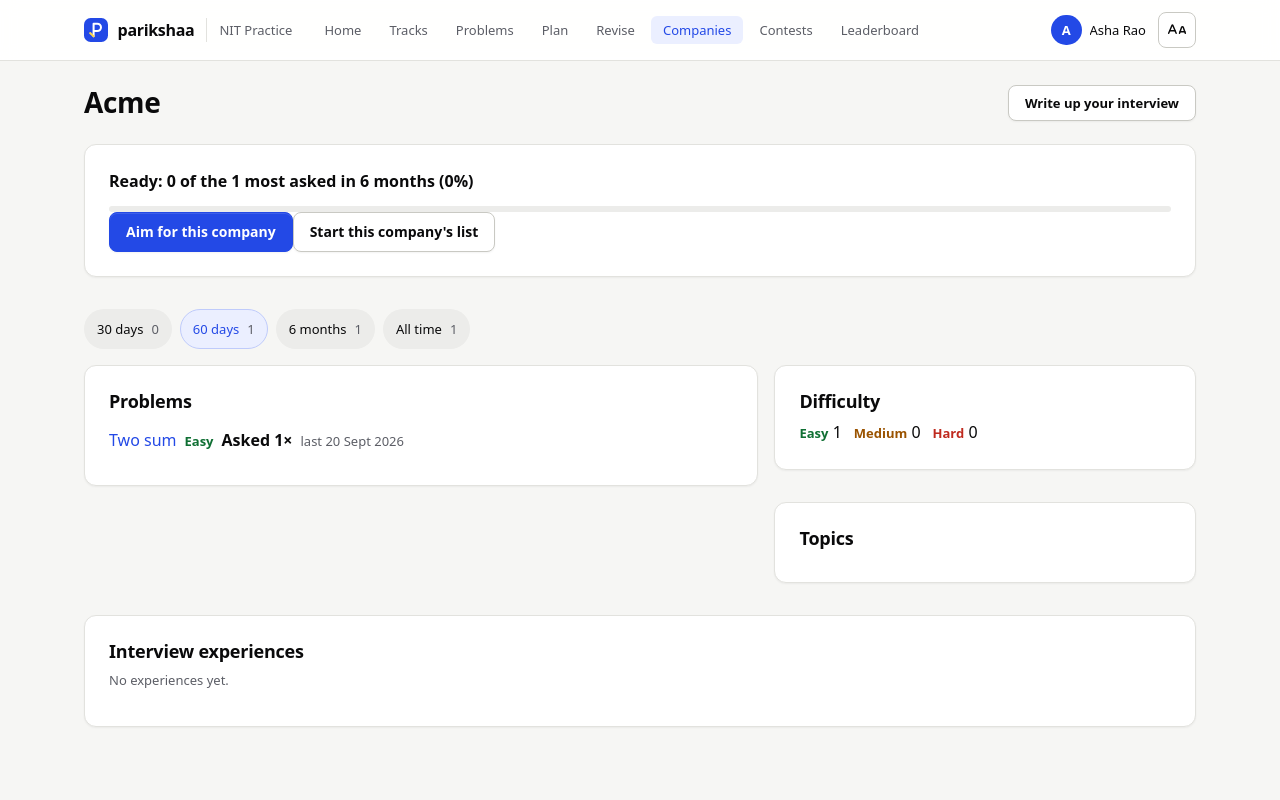
it: aiming for a company › aims for it, and starts its list
The width and height of the screenshot is (1280, 800).
Click the button "Aim for this company" at (201, 232), box [109,212,293,252]
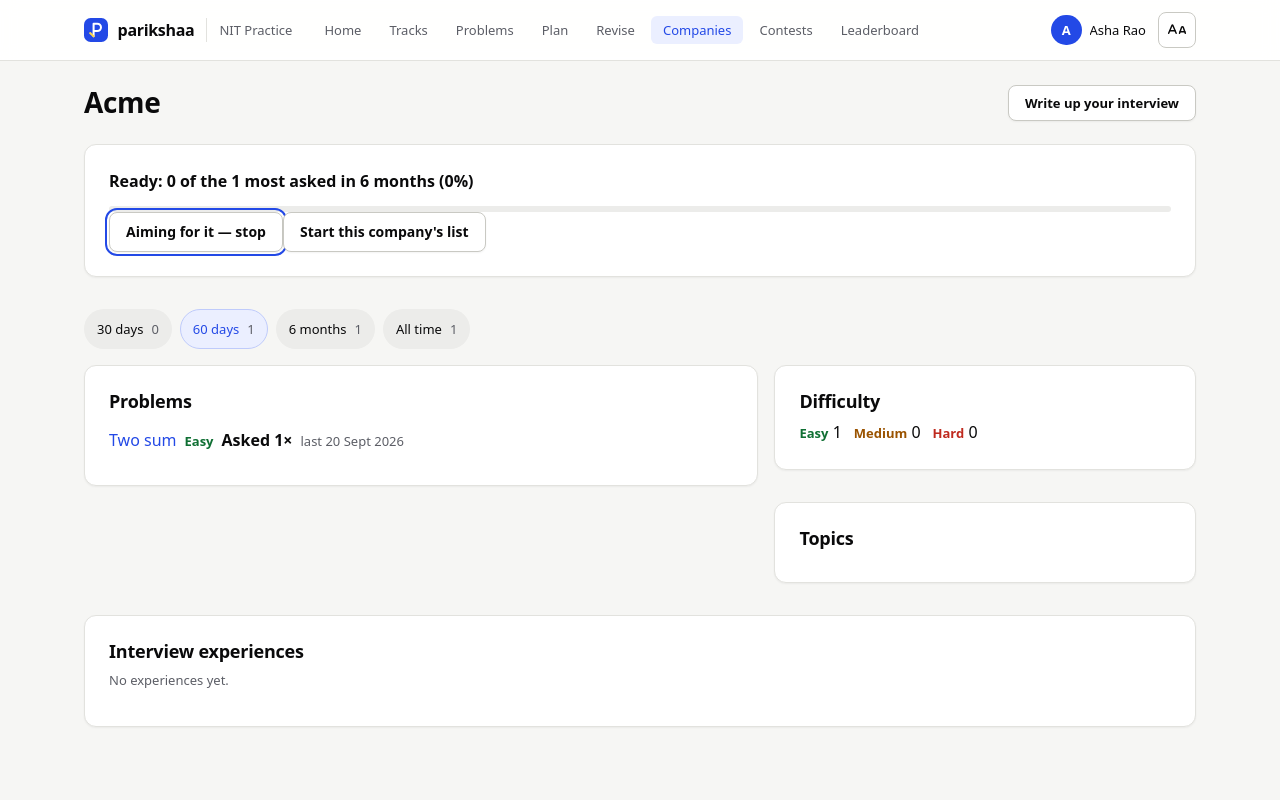
Now the button "Aiming for it — stop" is shown, box [109,212,283,252]
Click the button "Start this company's list" at (384, 232), box [283,212,486,252]
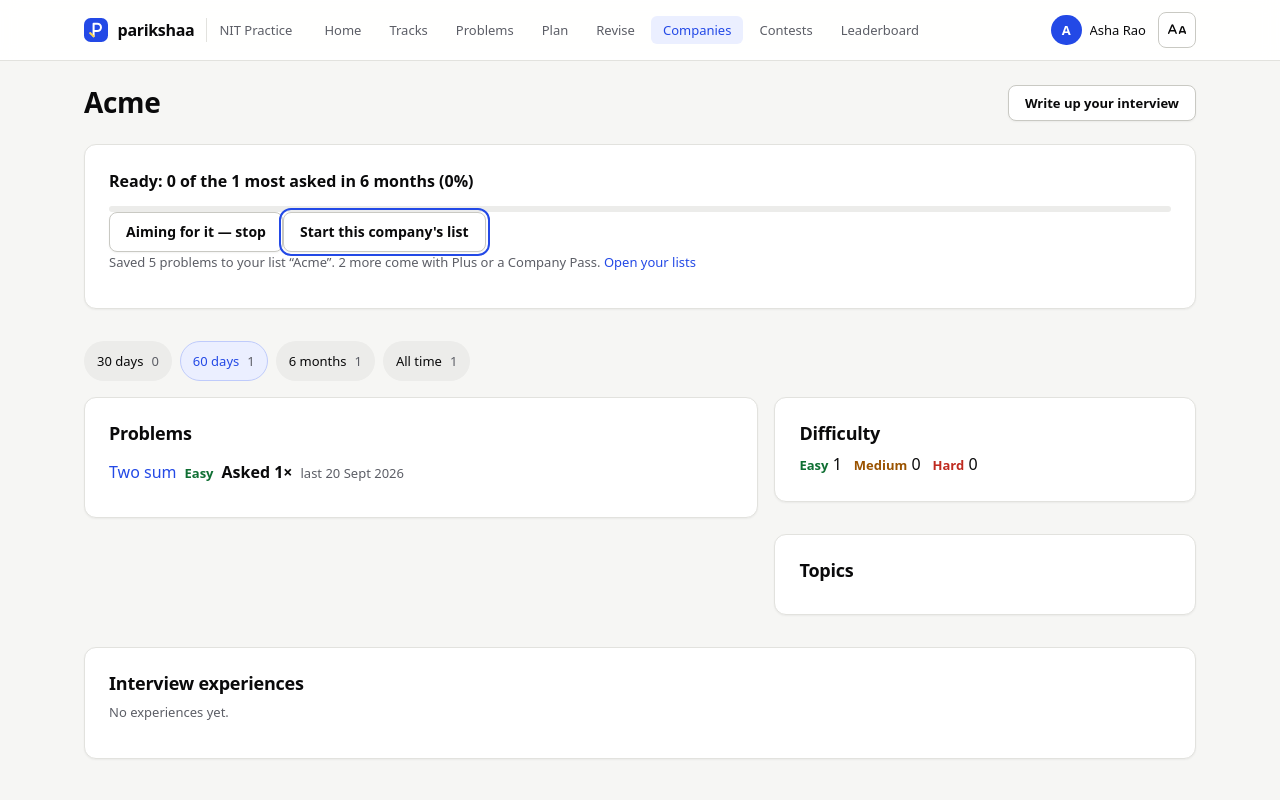
Now the text "Saved 5 problems to your list “Acme”. 2 more come with Plus or a Company Pass." is shown, box [109,253,696,271]
Now the link "Open your lists" is shown, box [604,253,696,271]
